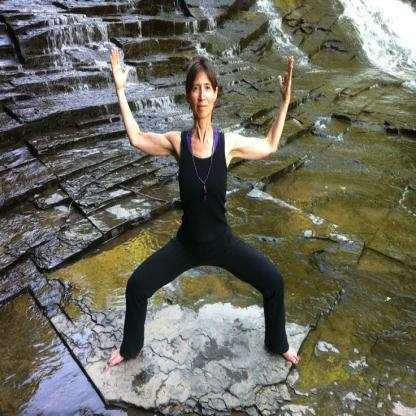godness: (99, 34, 305, 375)
